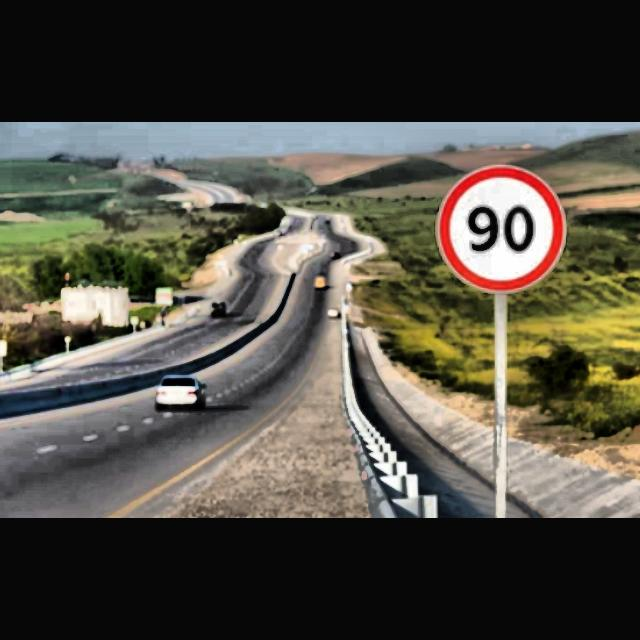speed_90: (436, 164, 566, 294)
